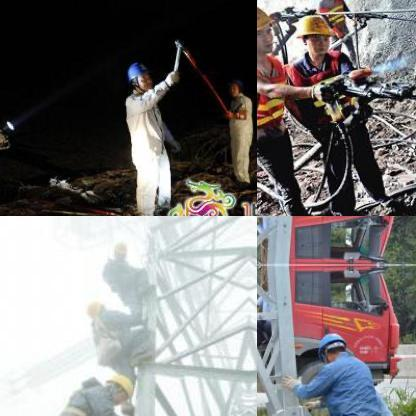Helmet: (292, 9, 336, 57), (99, 372, 133, 408), (257, 0, 279, 54), (124, 54, 150, 94), (318, 329, 347, 359), (83, 297, 109, 319), (109, 239, 127, 263), (226, 76, 242, 94)
